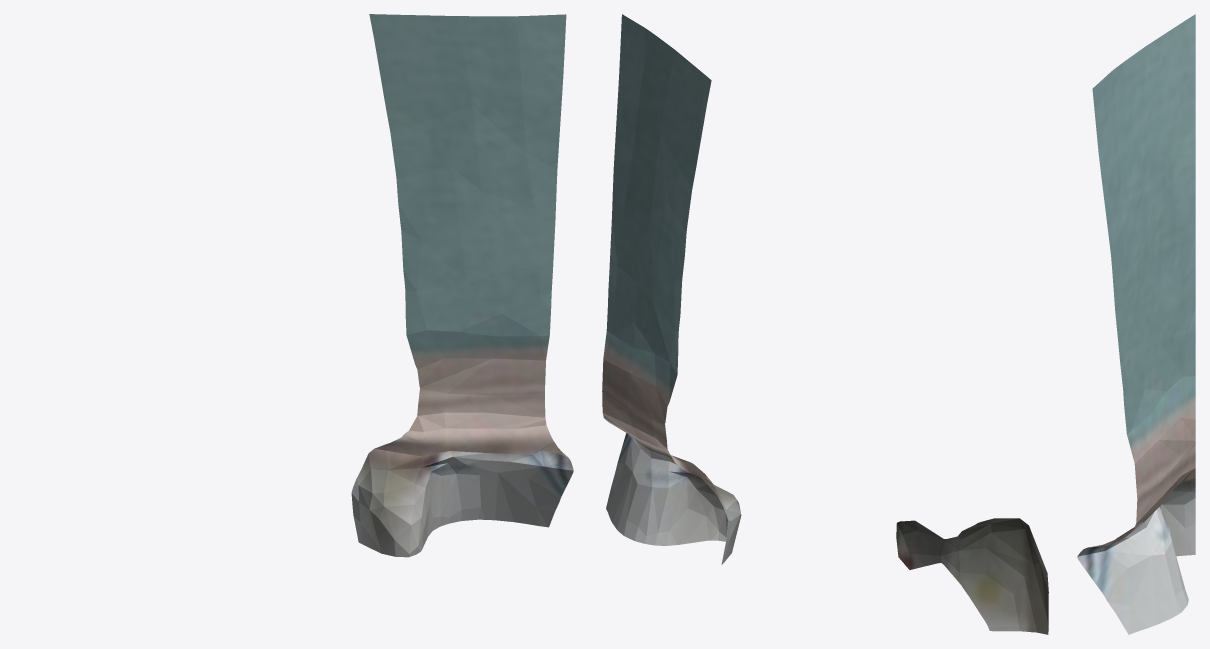
3 renders of one model, left to right at view 1: azimuth 30°, elevation 25°; view 2: azimuth 150°, elevation 25°; view 3: azimuth 270°, elevation 25°, orthographic. The views are drawn at different scales.
Size of the model in its own units: 85.74 by 85.74 by 16.87.
1 material, 1 textured.
